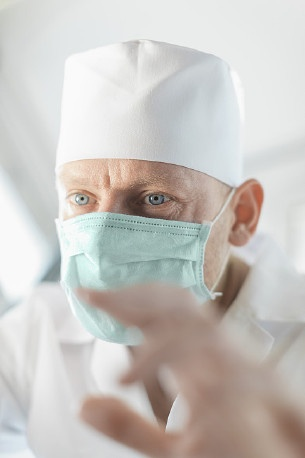Mask: (49, 171, 217, 339)
